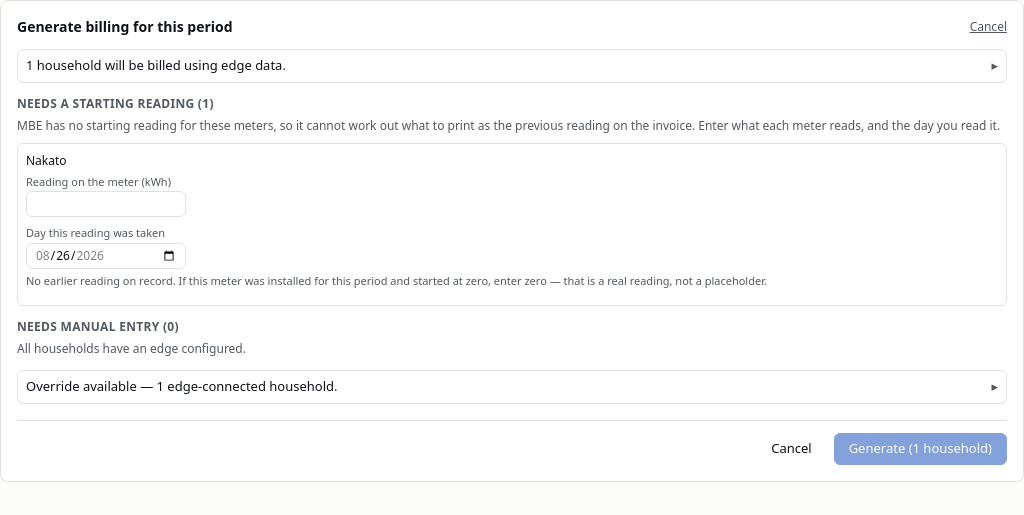
Test case: PreflightPanel — seed readings (#339) › keeps Generate disabled when the derived reading is negative
Type "100" into the number field with test id "preflight-seed-dial-h-1" at [106, 204], box 26,191 -> 186,217
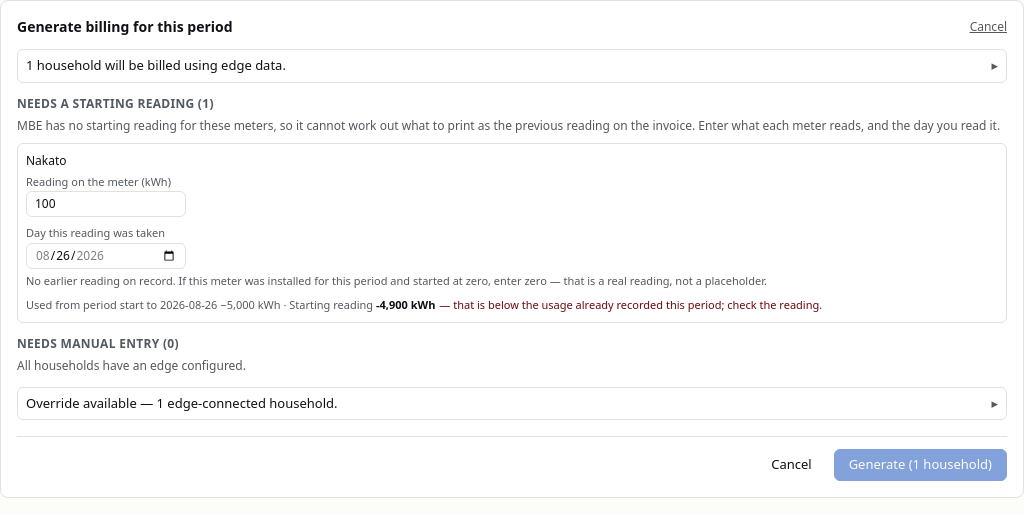
Expected: the button with test id "preflight-generate-button" is disabled, 834,449 -> 1007,481
Expected: the element with test id "preflight-seed-math-h-1" is shown, 26,297 -> 435,312
